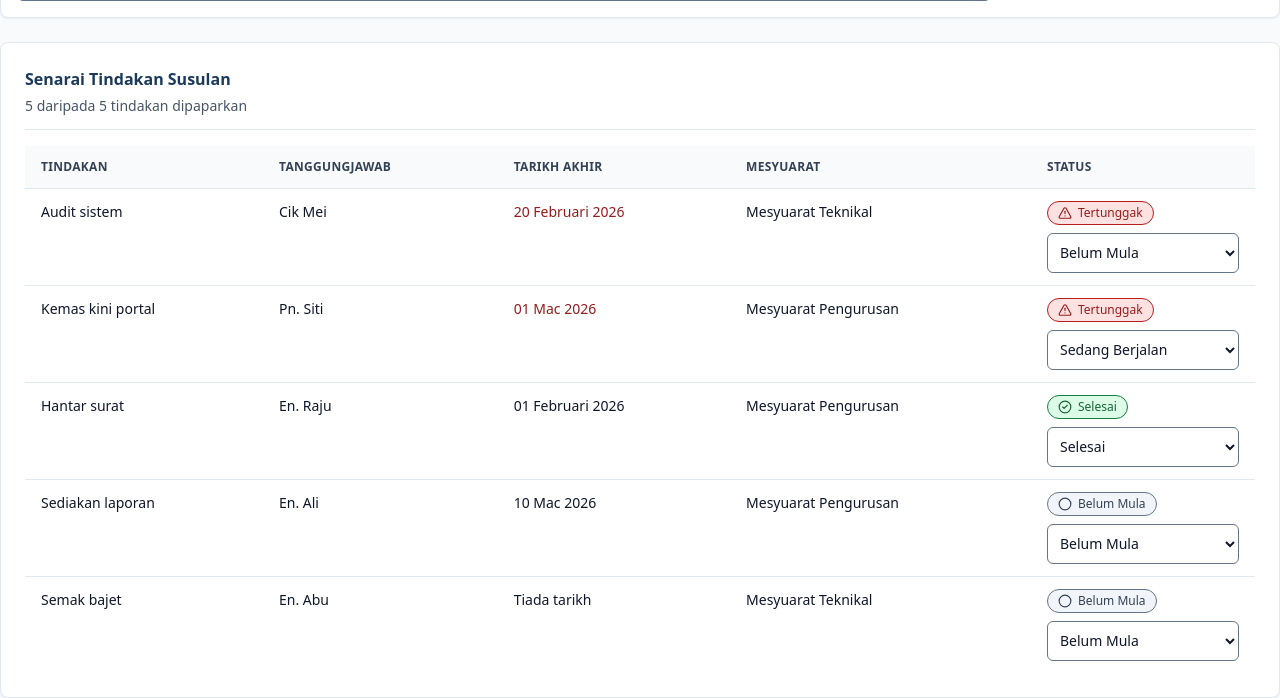
it: TrackerView › rolls back the status and shows an error toast when the save fails
The image size is (1280, 698).
(page scrolled)
Select "Sedang Berjalan" in the dropdown named "Kemas kini status: Sediakan laporan" at (1143, 544), box [1047, 524, 1239, 564]
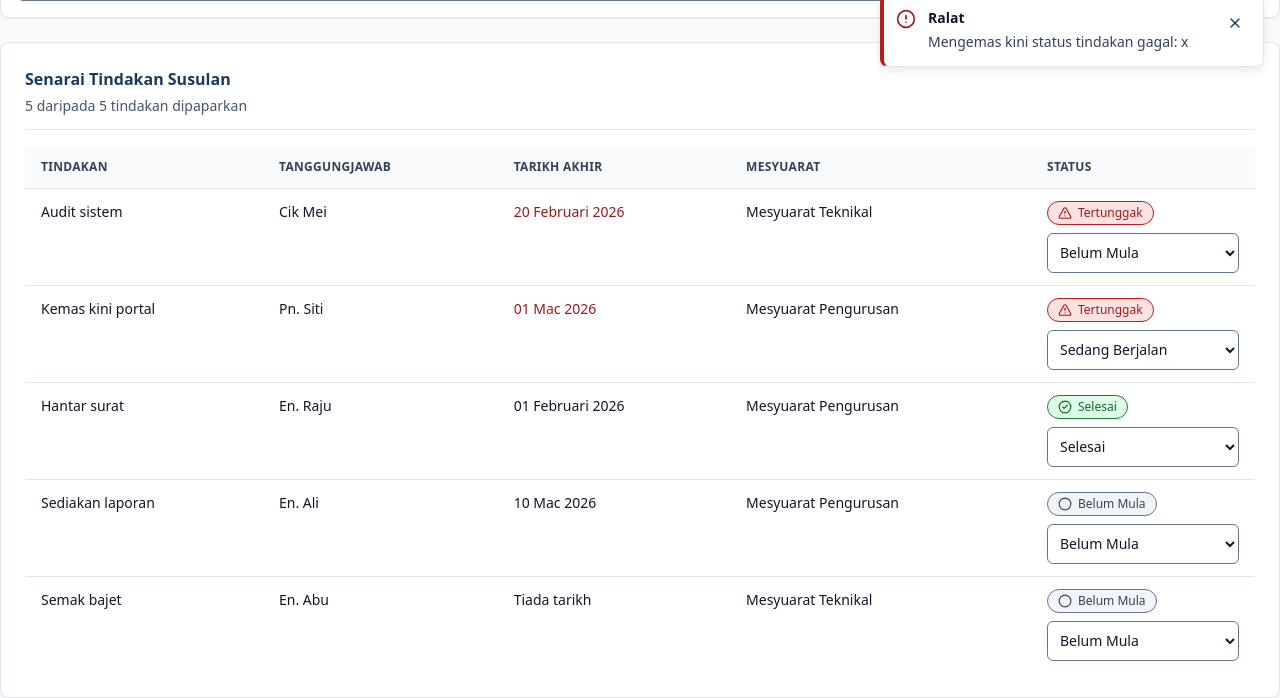
Check: the text "Mengemas kini status tindakan gagal: x" is shown, box [928, 31, 1203, 54]
